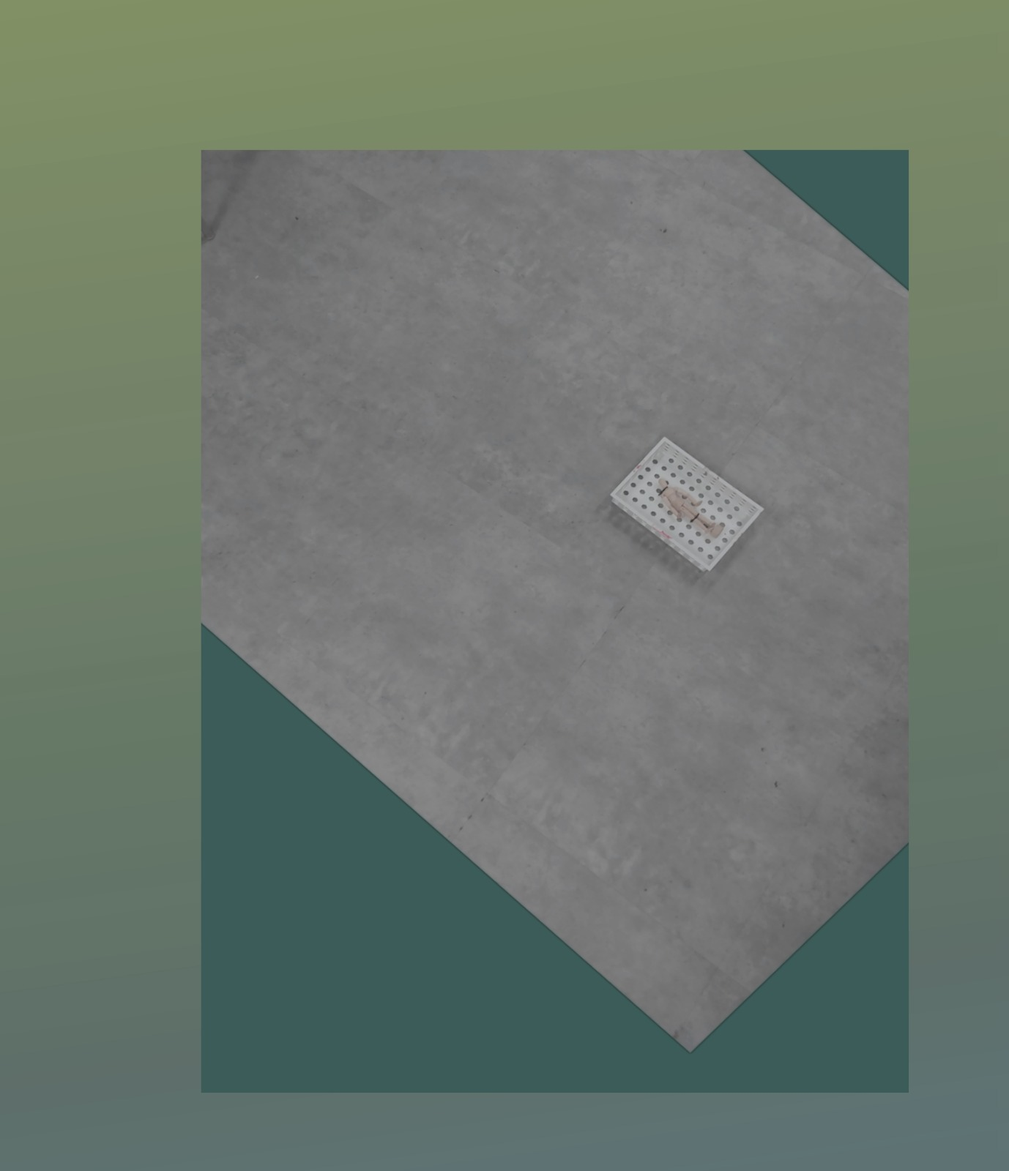basket: (608, 433, 767, 575)
mannequin: (655, 476, 726, 540)
